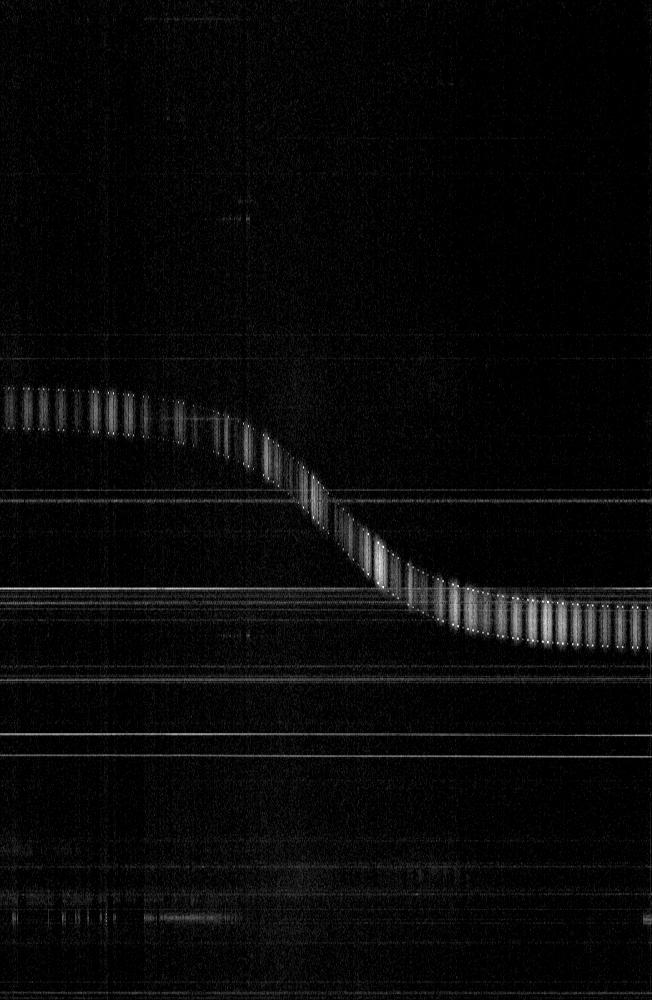signal: (0, 0, 651, 999)
